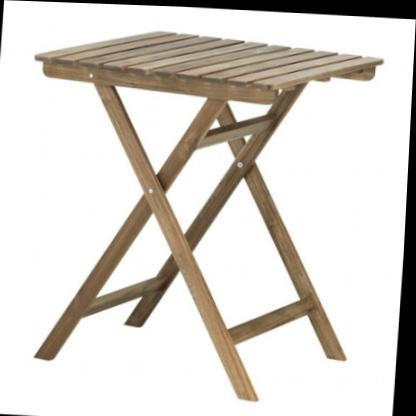Table: (13, 18, 389, 409)
